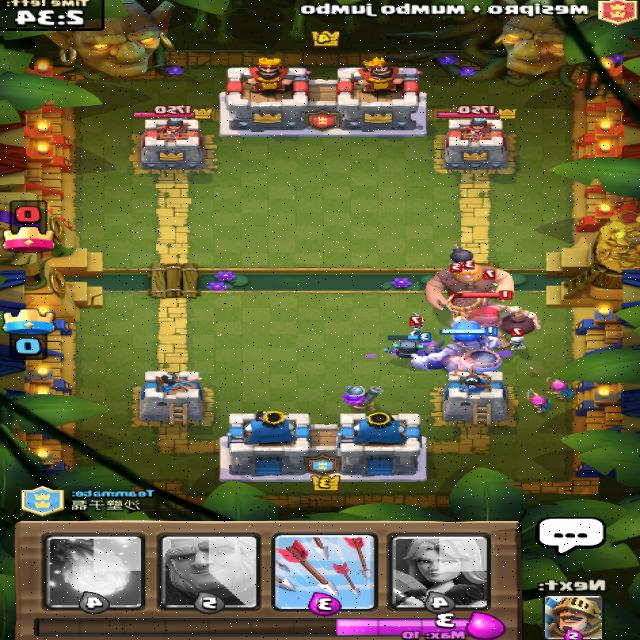Enemy-Giant: (426, 259, 516, 310)
Enemy-GiantSkeleton: (449, 289, 545, 348)
Enemy-Skeleton: (408, 310, 429, 335), (510, 326, 530, 351)
Player-Archer: (525, 386, 556, 414), (548, 374, 579, 400)
Player-GiantSkeleton: (411, 320, 506, 370)
Player-MiniPEKKA: (384, 332, 434, 358)
Player-Musketeer: (344, 383, 386, 413)
